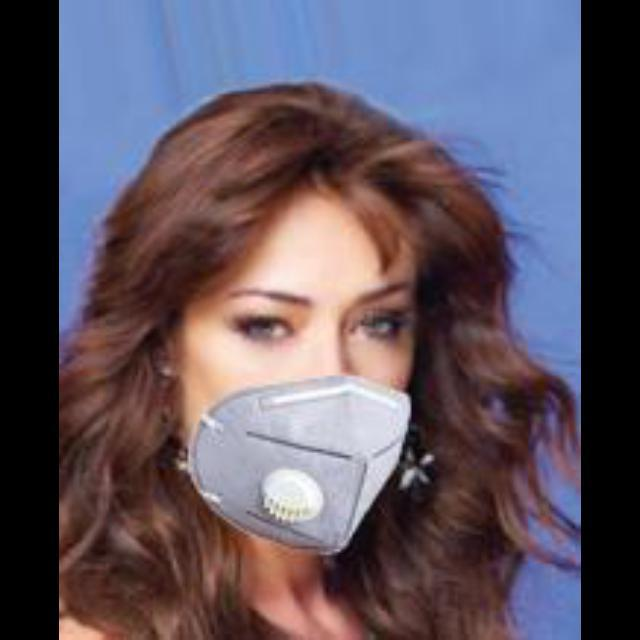suspicion: (190, 85, 448, 578)
